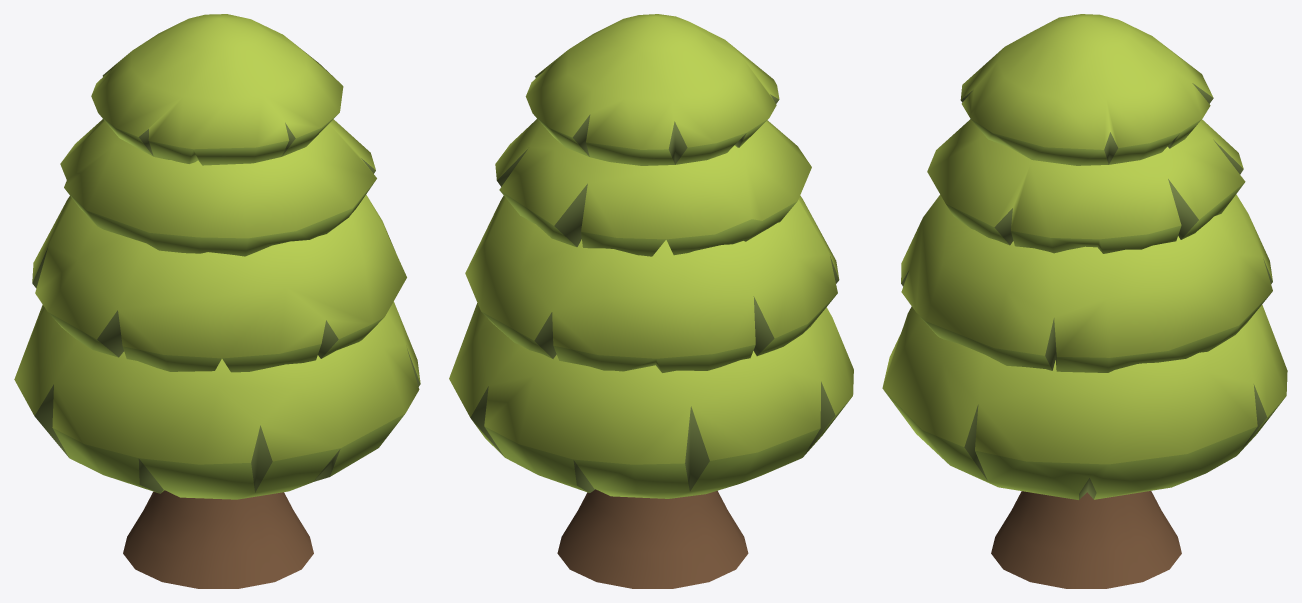
File: TreeRoundPine_03.glb
3 views of the same model, side by side, from view 1: azimuth 30°, elevation 25°; view 2: azimuth 150°, elevation 25°; view 3: azimuth 270°, elevation 25° (orthographic).
Parts seen in each view (by area): view 1: TreeRoundPine_03; view 2: TreeRoundPine_03; view 3: TreeRoundPine_03.
Part boxes in pixels (bbox=[...]): TreeRoundPine_03: bbox=[14, 14, 420, 588]; TreeRoundPine_03: bbox=[449, 14, 853, 588]; TreeRoundPine_03: bbox=[882, 14, 1287, 588].
Size of what is drawn, in the model's own units: 3.1 by 4.48 by 3.09.
Materials: 1 (1 with a texture image).
